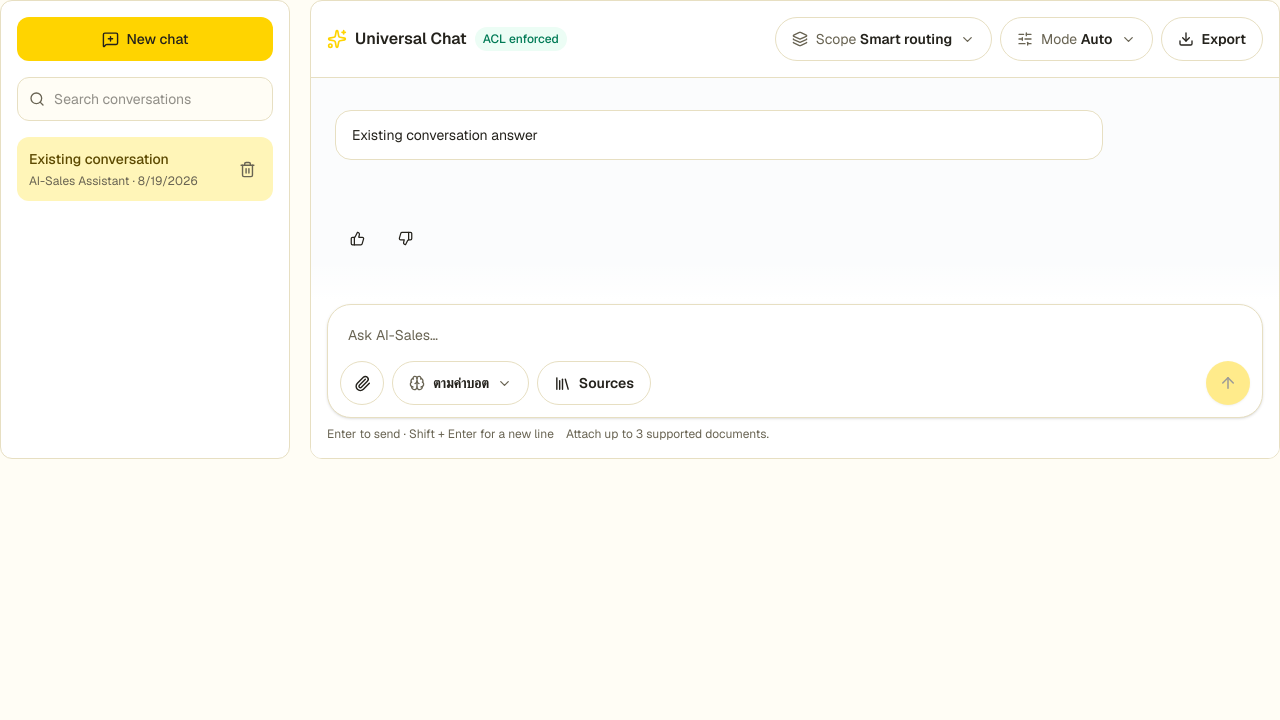
universal chat navigation › starts a usable sentence from a starter prompt instead of its label
Click the link "New chat".
click(145, 39)  # box [17,17,273,61]
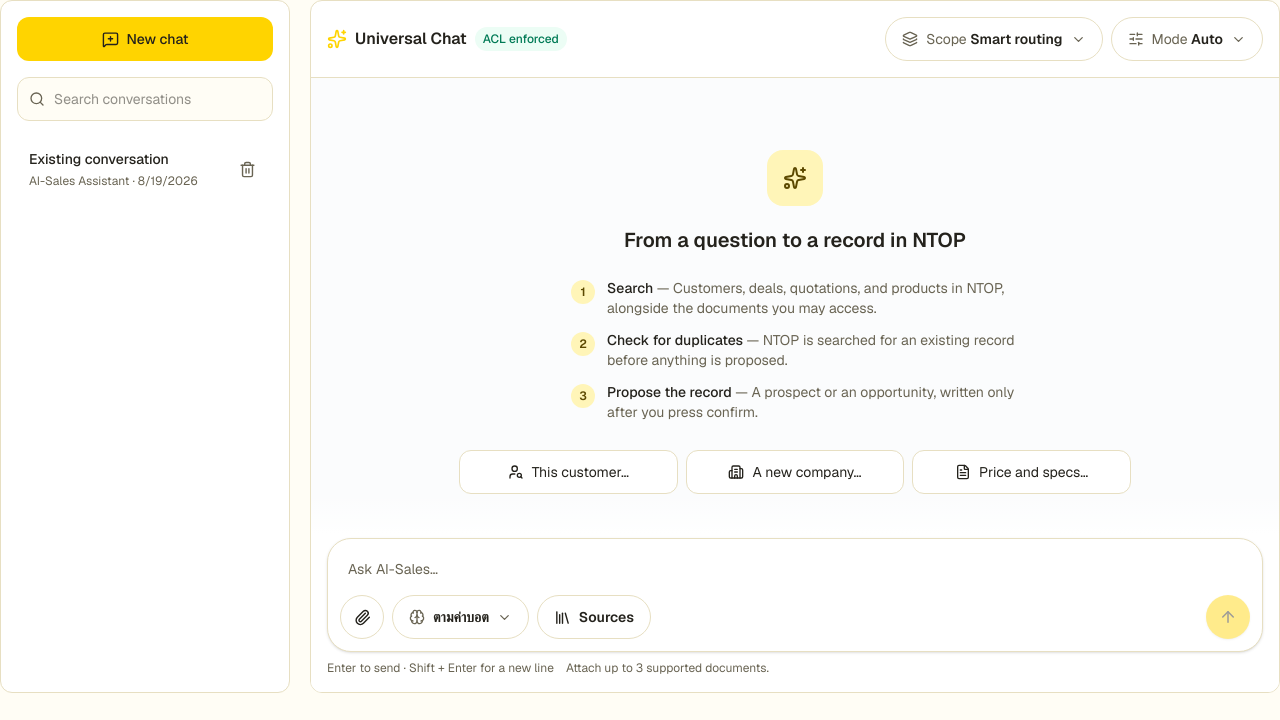
Click the button "A new company…".
click(795, 472)  # box [686,450,904,494]
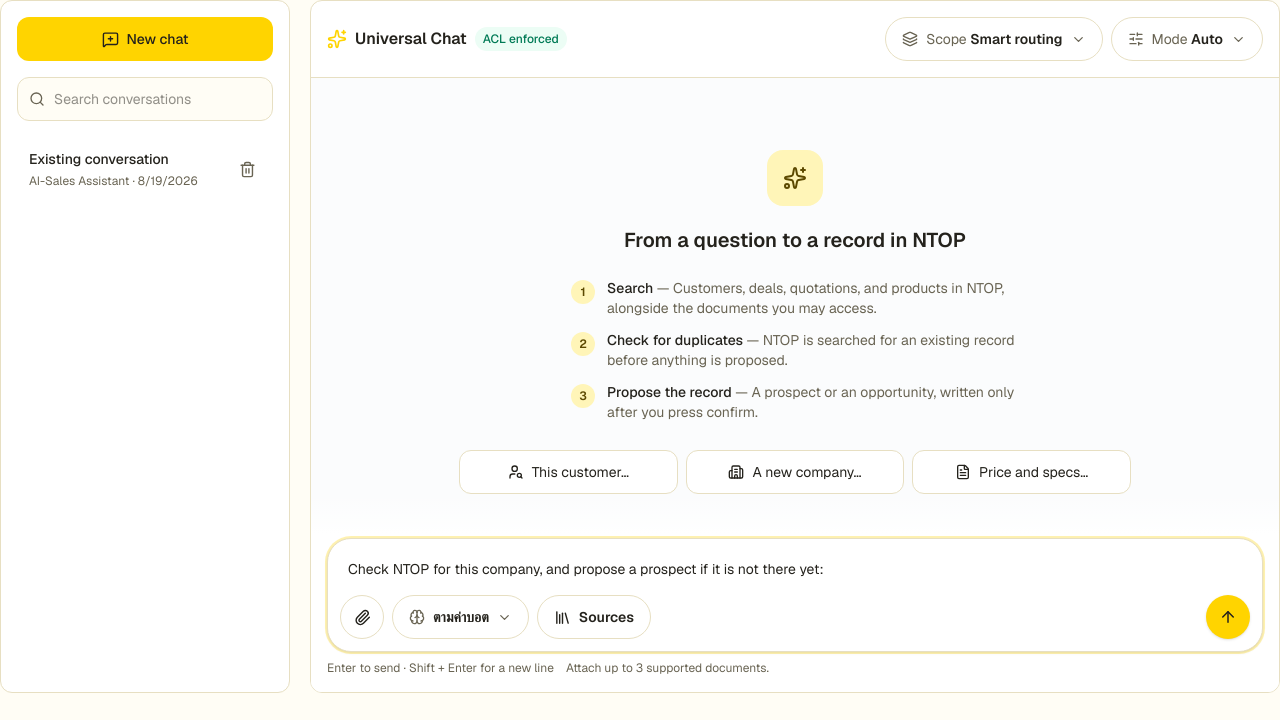
expect the text box named "Message AI-Sales" holds "Check NTOP for this company, and propose a prospect if it is not there yet: ": met, box [336,547,1254,591]
